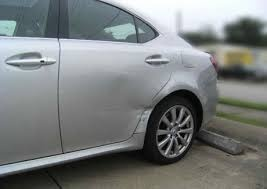Dent: (104, 64, 146, 115)
Scratch: (132, 101, 152, 127)
